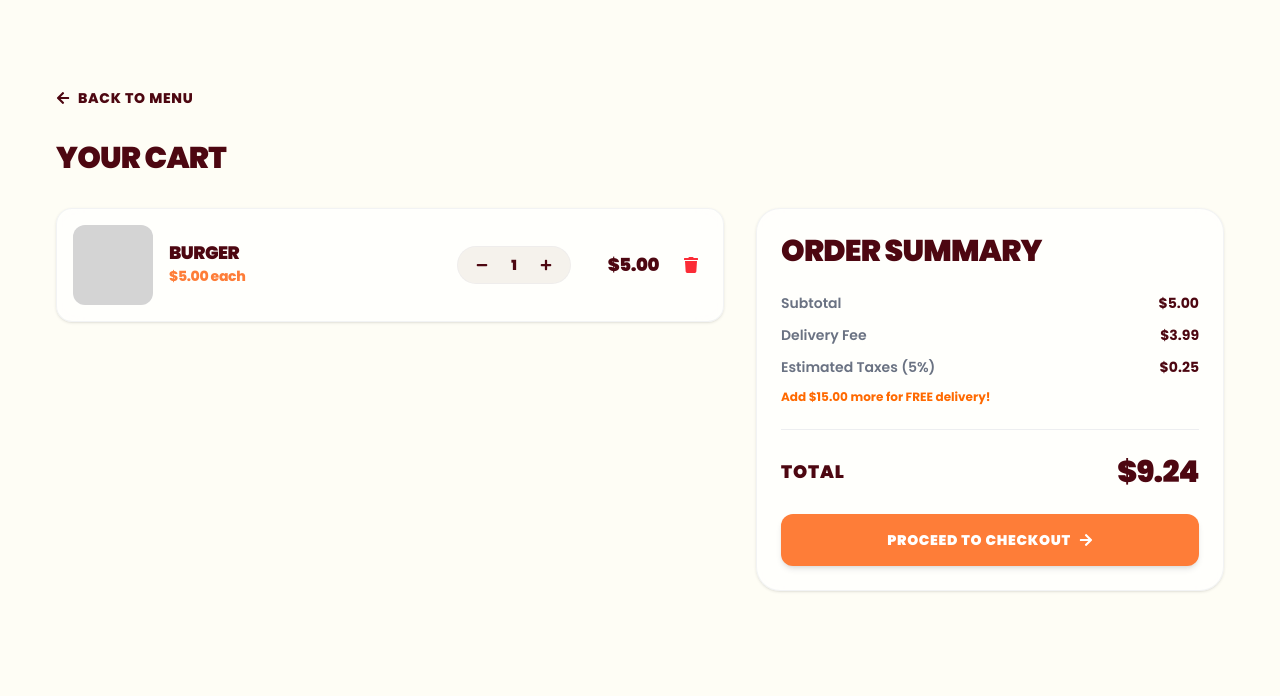
Test: CartPage UI Component › shows validation errors when submitting an empty checkout form
The width and height of the screenshot is (1280, 696).
Click the button "Proceed to Checkout".
click(990, 540)  # box [781, 514, 1199, 566]
(page scrolled)
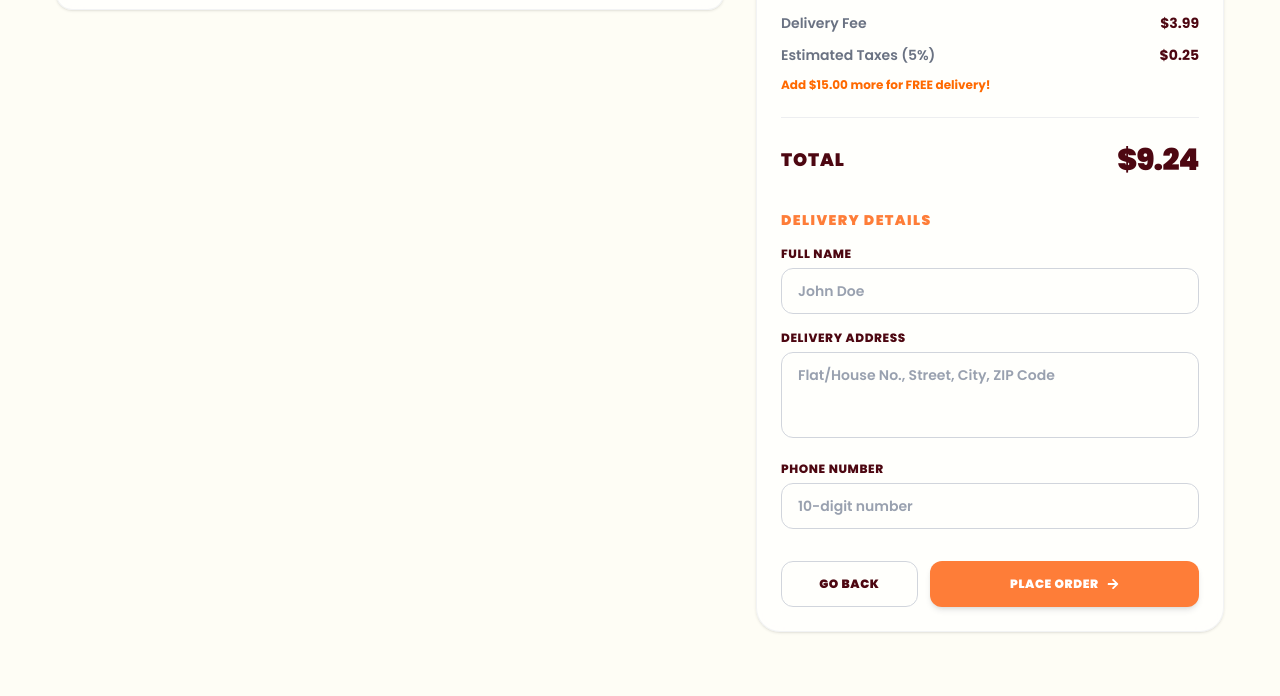
Click the button "Place Order".
click(1064, 584)  # box [930, 561, 1199, 607]
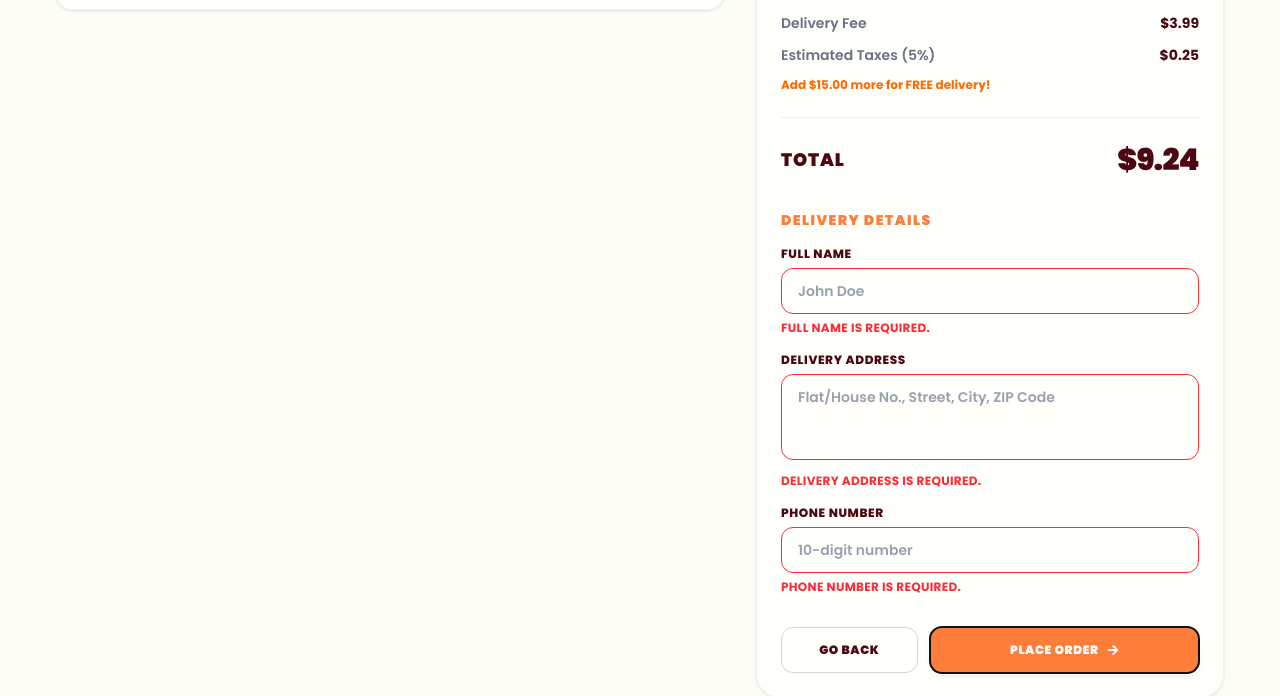
Check: the text "Full name is required." is shown, box [781, 319, 930, 336]
Check: the text "Delivery address is required." is shown, box [781, 472, 981, 489]
Check: the text "Phone number is required." is shown, box [781, 578, 961, 595]
